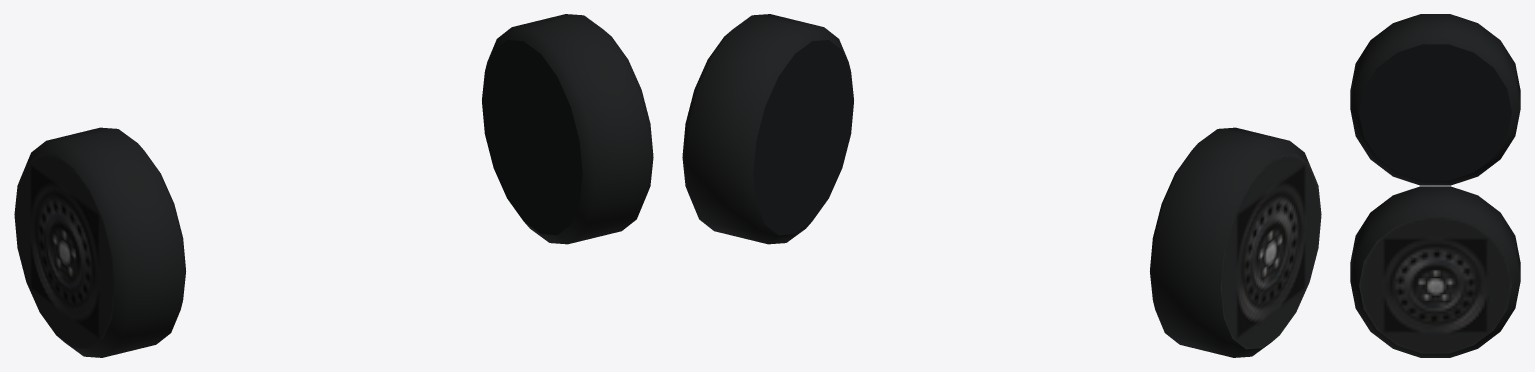
The model's file is fullsize_taxi_wheels_f.obj.
3 views of the same model, side by side, from view 1: azimuth 30°, elevation 25°; view 2: azimuth 150°, elevation 25°; view 3: azimuth 270°, elevation 25° (orthographic). The views are drawn at different scales.
Visible parts, largest first — view 1: fullsize_taxi_wheels_f; view 2: fullsize_taxi_wheels_f; view 3: fullsize_taxi_wheels_f.
Boxes of the visible parts, bbox=[...] form: fullsize_taxi_wheels_f: bbox=[14, 14, 653, 357]; fullsize_taxi_wheels_f: bbox=[682, 14, 1321, 357]; fullsize_taxi_wheels_f: bbox=[1350, 14, 1520, 357].
Size of the model in its own units: 1.87 by 0.6643 by 0.6746.
